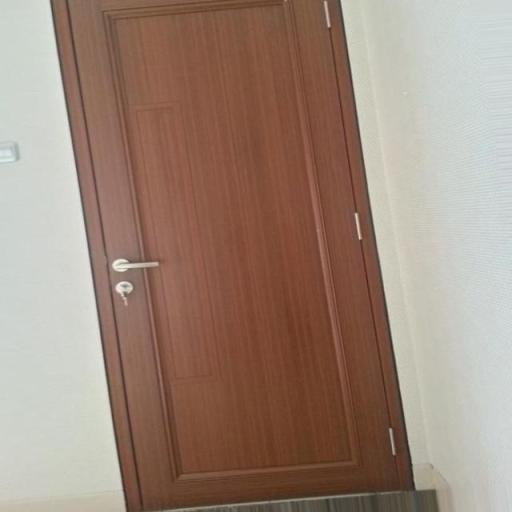door: (49, 0, 417, 511)
